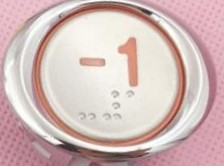Braille: (127, 90, 146, 121), (103, 91, 122, 121), (79, 91, 96, 120)
